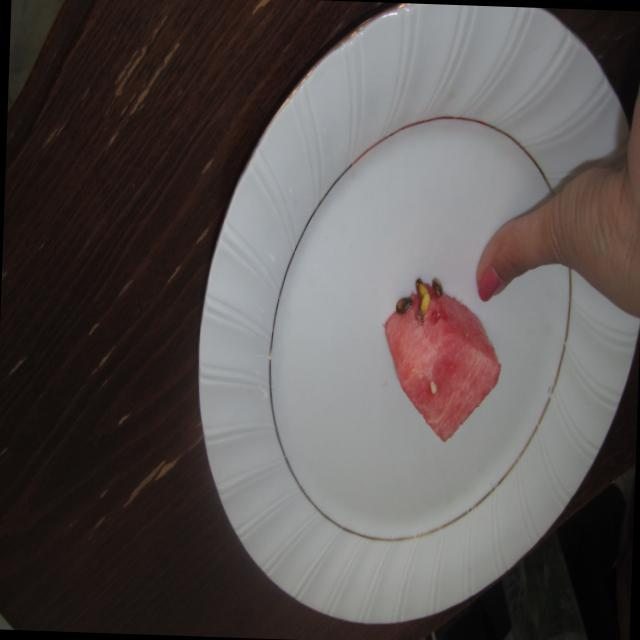Watermelon: (372, 292, 510, 460)
